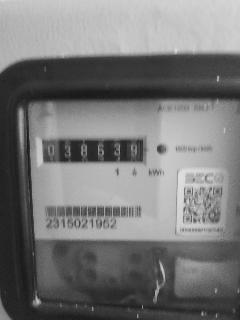1: (48, 144, 54, 156)
4: (114, 143, 120, 156), (65, 146, 71, 158)
7: (98, 143, 104, 157)
9: (81, 145, 88, 158)
:: (131, 143, 137, 157)
